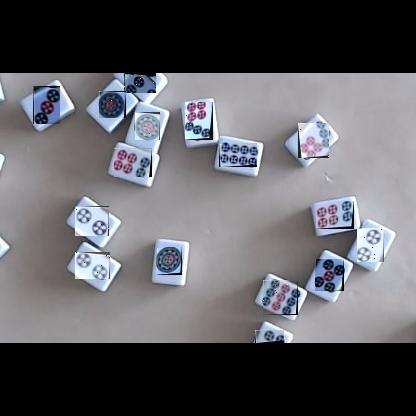1p: (99, 91, 126, 118), (156, 247, 182, 275), (135, 112, 160, 140)
2p: (75, 206, 109, 236), (75, 252, 110, 279), (357, 228, 384, 262)
3p: (33, 86, 60, 124)
4p: (124, 73, 156, 93)
5p: (315, 259, 344, 291), (255, 330, 284, 343)
6p: (114, 148, 152, 177), (316, 201, 354, 229)
7p: (298, 123, 329, 158), (185, 102, 213, 140)
8p: (219, 143, 257, 167)
9p: (263, 280, 298, 315)
